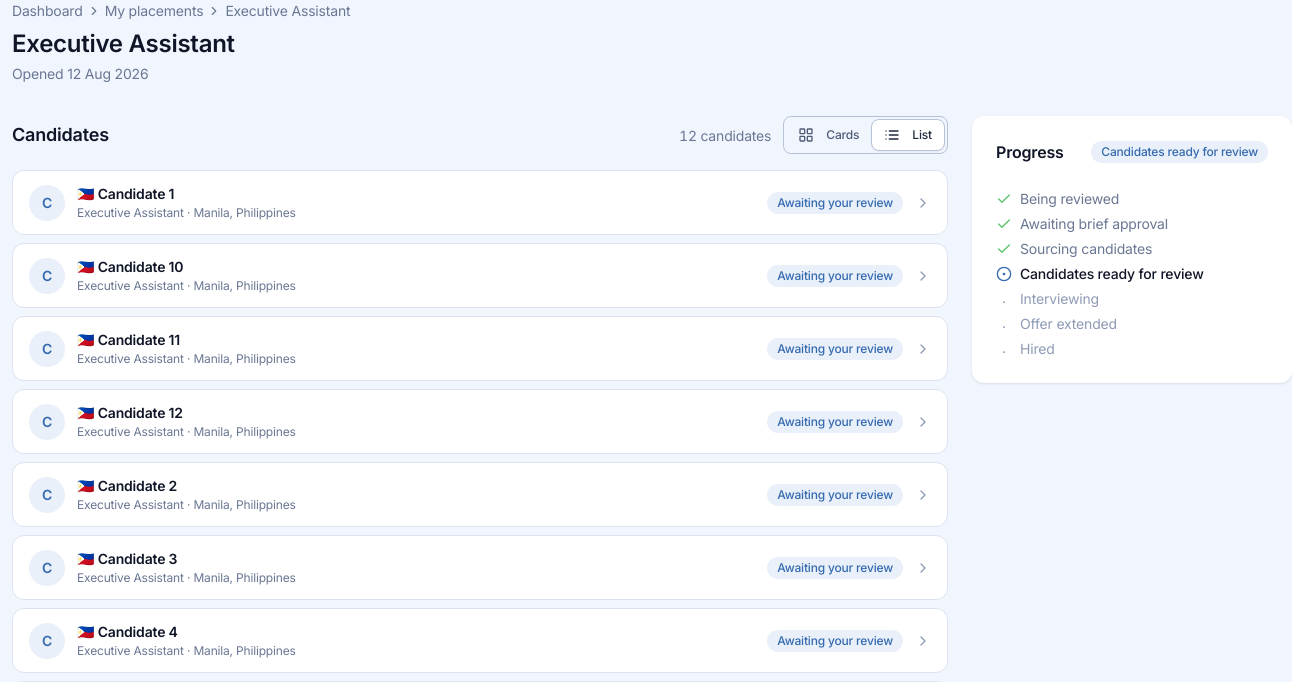
it: candidate views › an explicit choice beats the size default, and is remembered
Check: the button with aria-label "Review Candidate 1" is shown, box x1=12 y1=170 x2=948 y2=235
Click the button "Cards" at [829, 135], box x1=786 y1=119 x2=871 y2=151
(page scrolled)
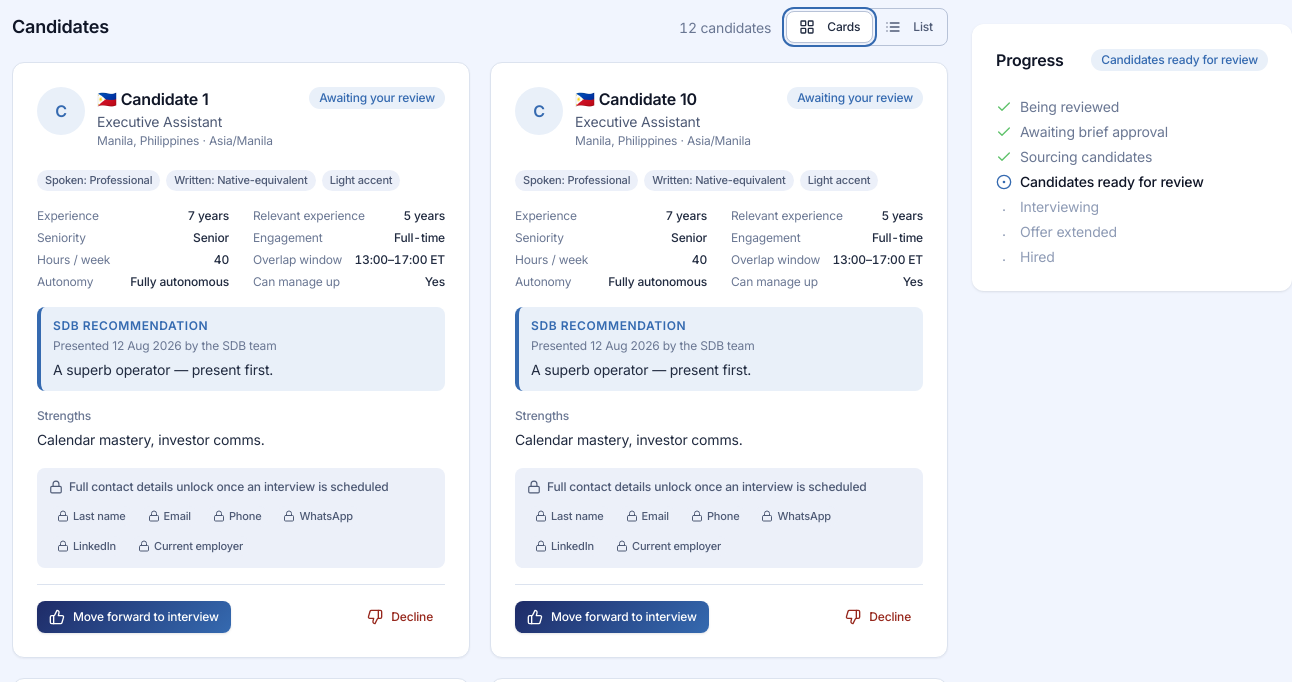
Check: the element named "Candidate Candidate 1" is shown, box x1=12 y1=62 x2=470 y2=658
